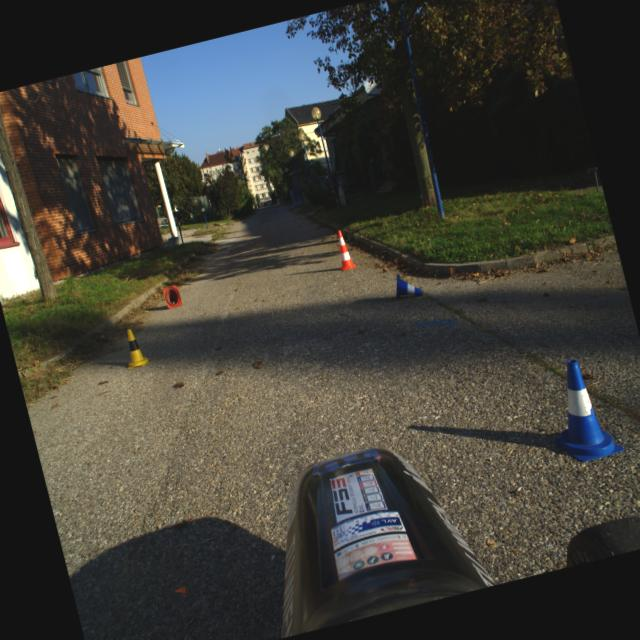blue_cone: (536, 352, 625, 466), (389, 269, 424, 302)
large_orange_cone: (331, 228, 356, 270), (162, 283, 182, 309)
yellow_cone: (118, 326, 150, 370)
